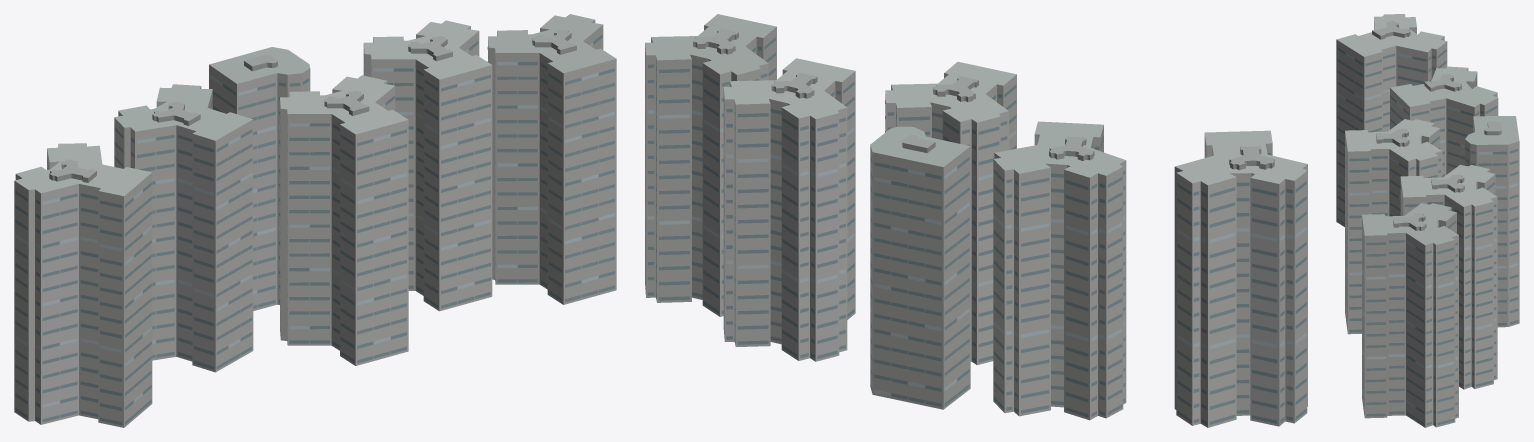
File: named-apt-dbe72e8e-483e-4a1f-bb7b-5aa346071a5a.glb
The picture shows the model from 3 angles, left to right: view 1: azimuth 30°, elevation 25°; view 2: azimuth 150°, elevation 25°; view 3: azimuth 270°, elevation 25°; orthographic projection. The views are drawn at different scales.
Parts seen in each view (by area): view 1: named-apt-dbe72e8e-483e-4a1f-bb7b-5aa346071a5a; view 2: named-apt-dbe72e8e-483e-4a1f-bb7b-5aa346071a5a; view 3: named-apt-dbe72e8e-483e-4a1f-bb7b-5aa346071a5a.
Boxes of the visible parts, left/top/right/bottom form: named-apt-dbe72e8e-483e-4a1f-bb7b-5aa346071a5a: left=14, top=14, right=616, bottom=427; named-apt-dbe72e8e-483e-4a1f-bb7b-5aa346071a5a: left=645, top=14, right=1307, bottom=427; named-apt-dbe72e8e-483e-4a1f-bb7b-5aa346071a5a: left=1336, top=14, right=1519, bottom=427.
Size of the model in its own units: 309 by 116 by 103.
